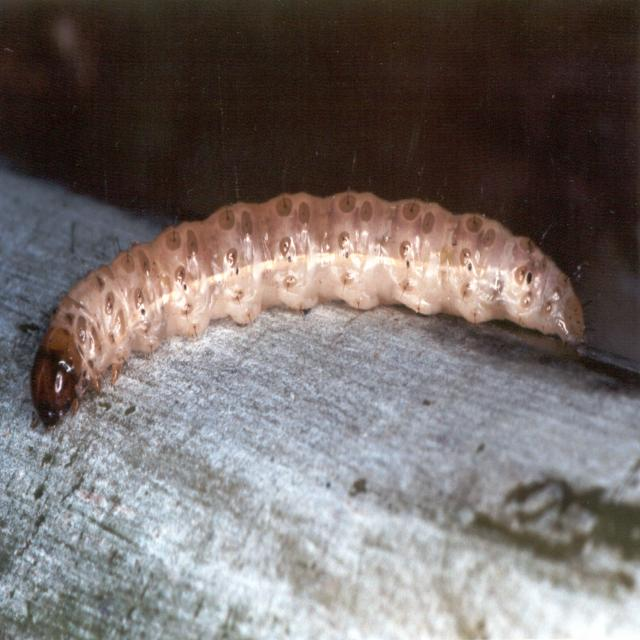cornborer-Larva-: (26, 178, 614, 467)
